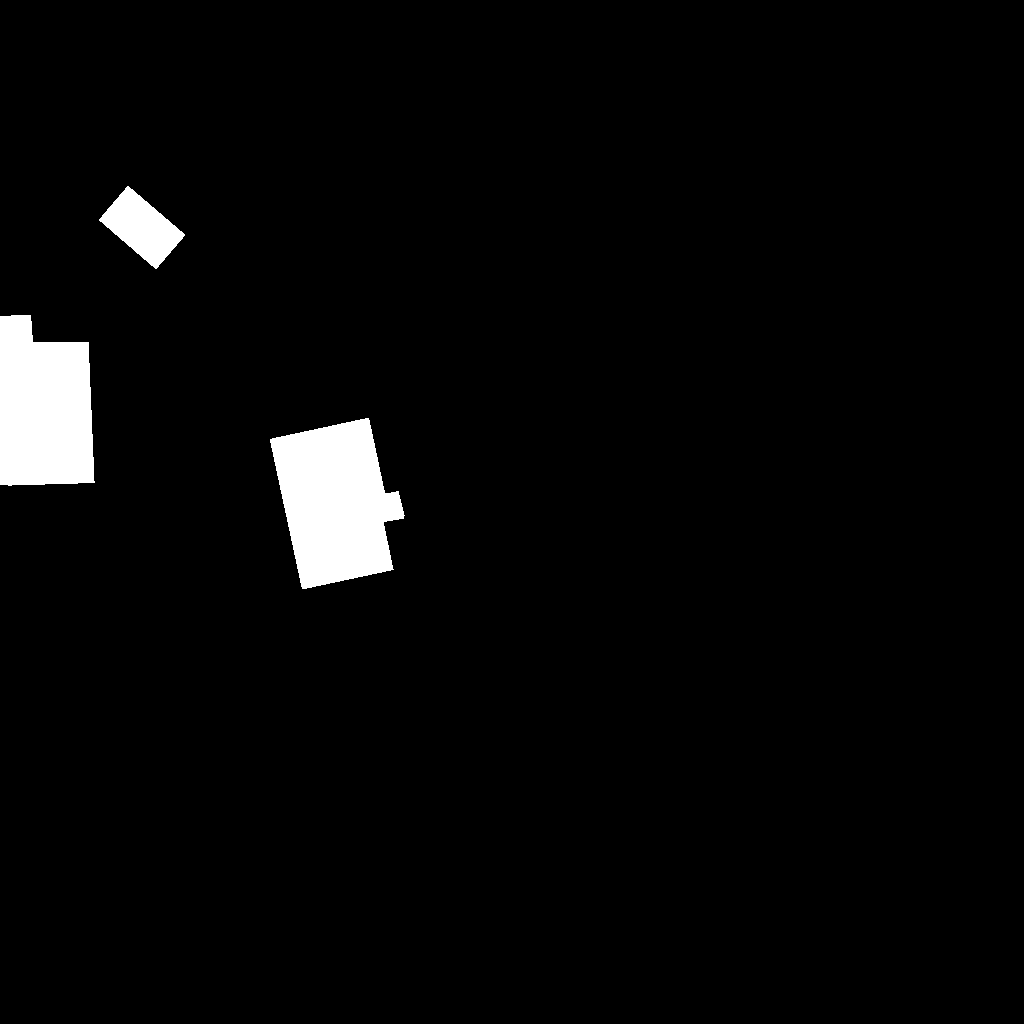building: (270, 418, 405, 590), (0, 315, 95, 486), (99, 186, 186, 270)
